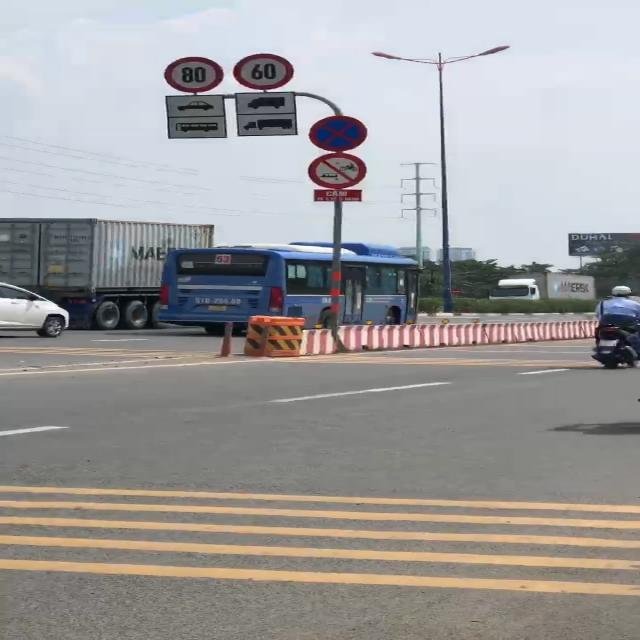Bien bao cam dung xe va do xe: (308, 110, 372, 152)
Bien bao toc do toi da cho phep: (229, 52, 303, 90), (160, 53, 228, 94)
